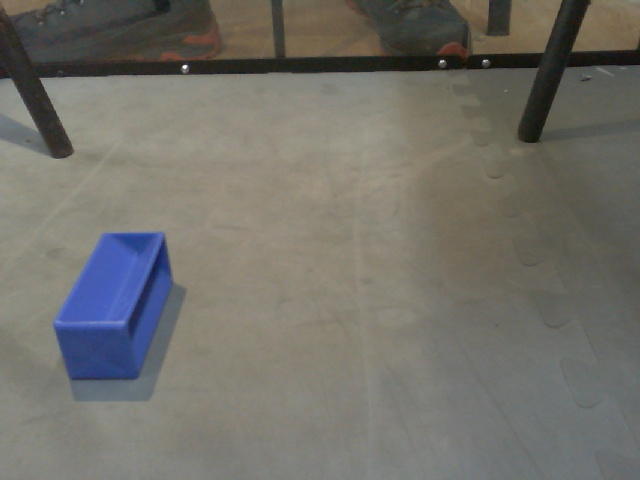BlueSample: (46, 225, 181, 393)
